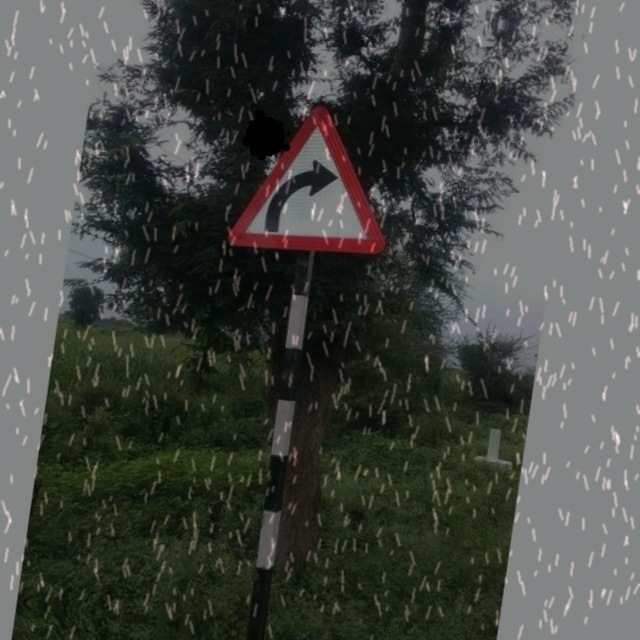Right_Hand_Curve: (223, 93, 410, 266)
